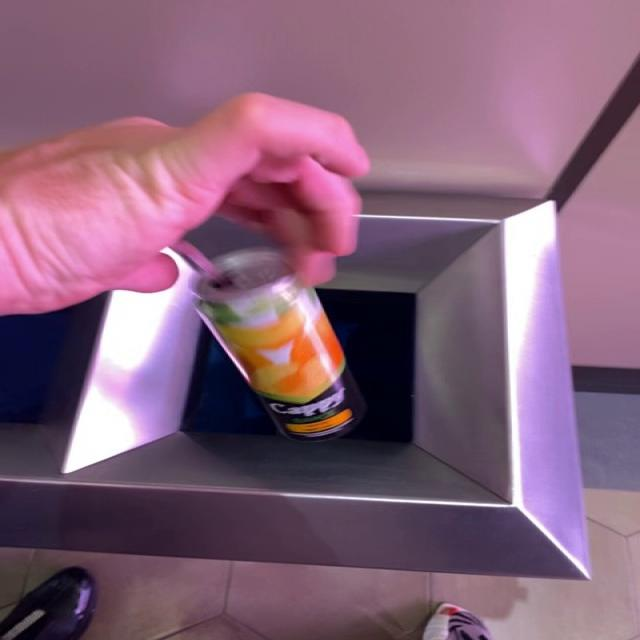metal: (193, 248, 367, 442)
